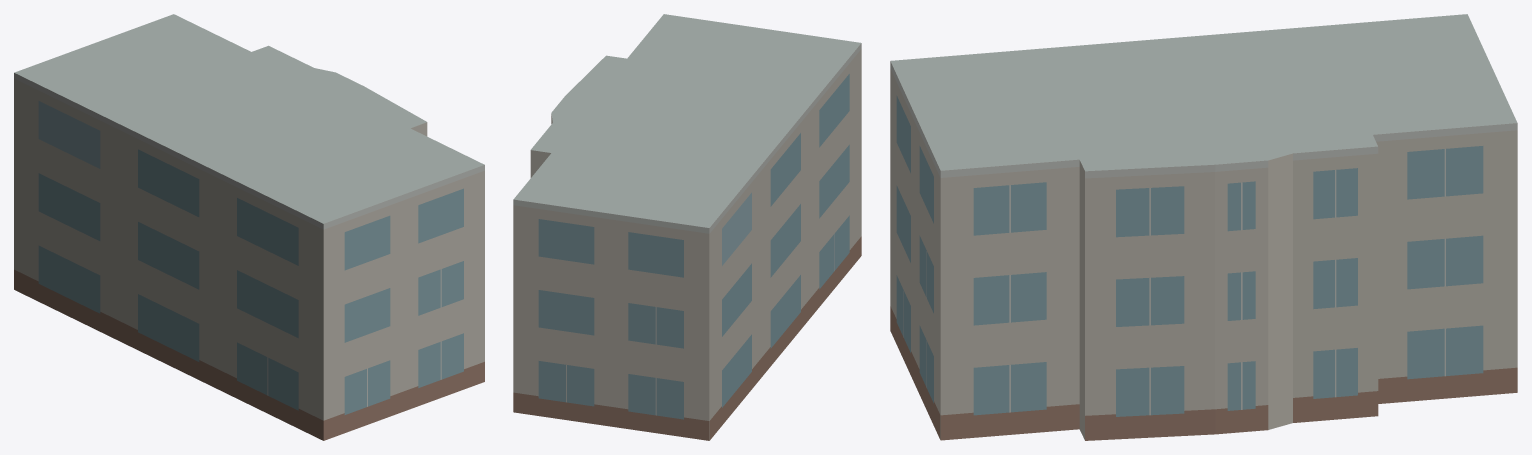
The model's file is survey-upis-32709160.glb.
3 views of the same model, side by side, from view 1: azimuth 30°, elevation 25°; view 2: azimuth 150°, elevation 25°; view 3: azimuth 270°, elevation 25° (orthographic). The views are drawn at different scales.
Parts seen in each view (by area): view 1: survey-upis-32709160.tmp; view 2: survey-upis-32709160.tmp; view 3: survey-upis-32709160.tmp.
Part boxes in pixels (x1,y1,x2,y2): survey-upis-32709160.tmp: (14, 14, 484, 440); survey-upis-32709160.tmp: (513, 14, 861, 440); survey-upis-32709160.tmp: (890, 14, 1517, 440).
Bounding box in the file's own units: 11.46 × 9.15 × 19.31.
